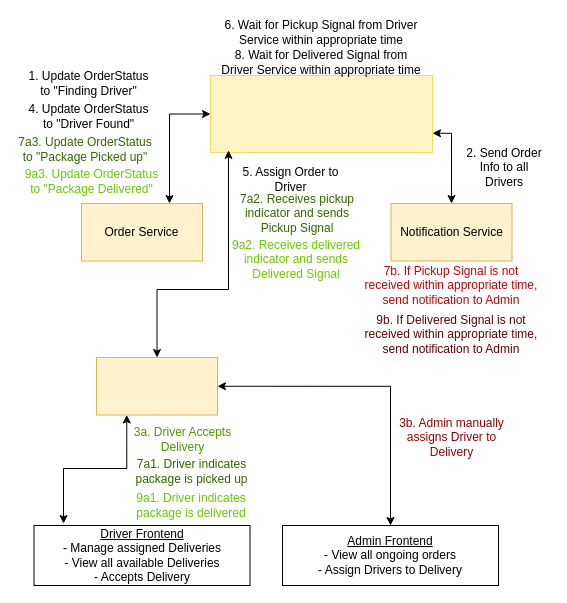
The diagram is 567 pixels wide and 603 high, and some of its shapes have lost their labels. The box of each missing label's shape, as (x1, y1, x2, y2) in pixels:
Delivery Workflow (Temporal): (210, 74, 432, 152)
Driver Service: (96, 356, 218, 415)
